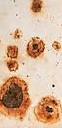Corrosion: (1, 75, 33, 120), (33, 94, 62, 125), (26, 36, 45, 59), (29, 1, 45, 16), (6, 59, 19, 73), (6, 44, 18, 59), (51, 40, 62, 52), (13, 28, 23, 41)
